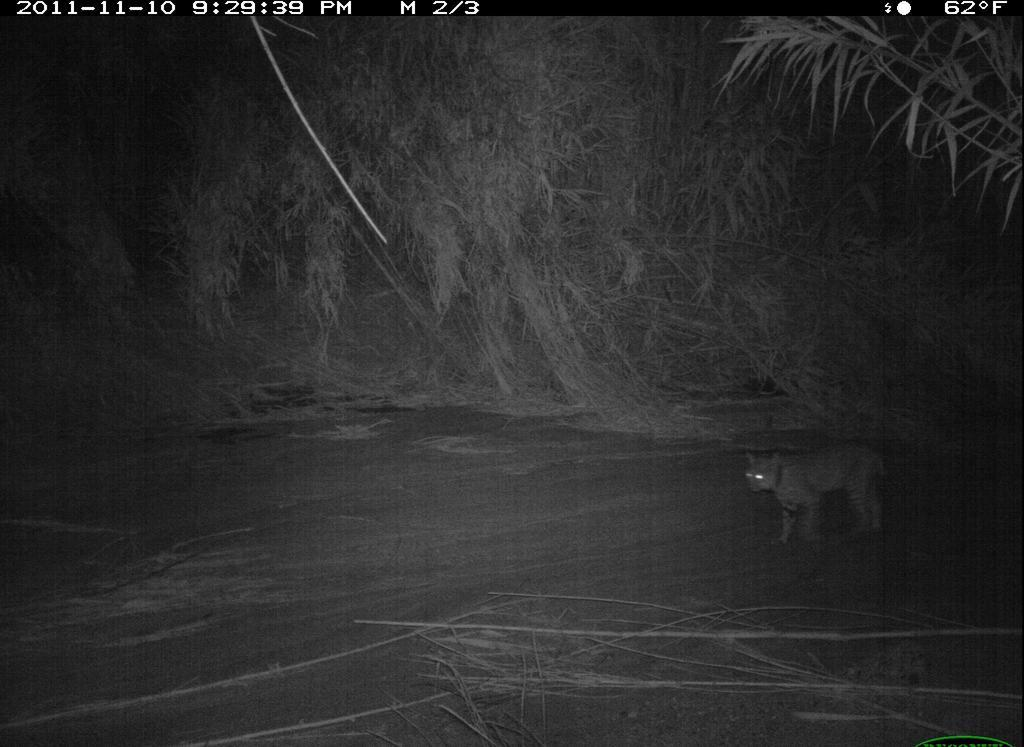bobcat: (716, 425, 916, 552)
